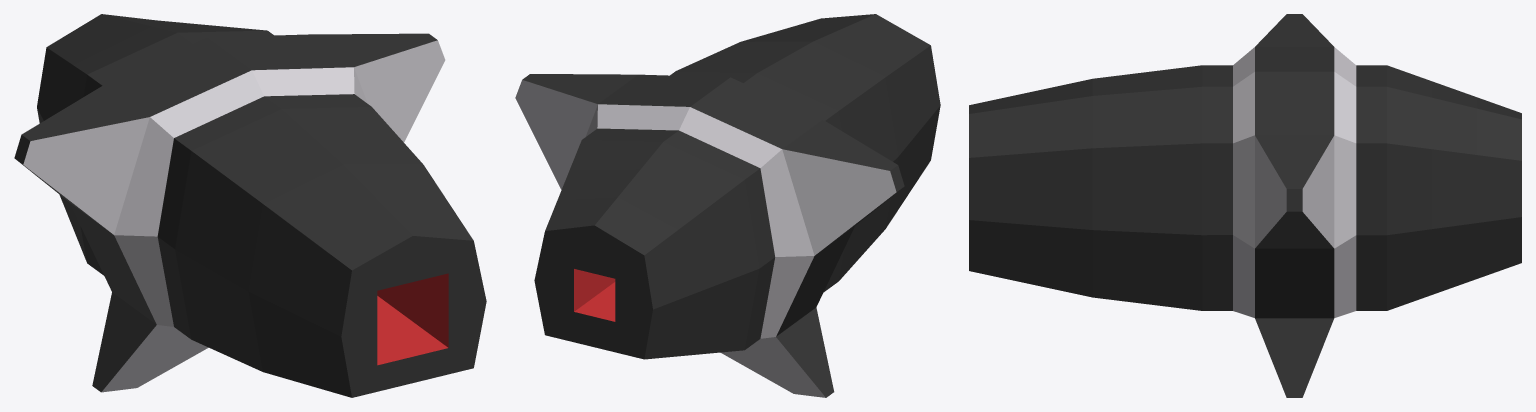
The model's file is playerGun.fbx.
The picture shows the model from 3 angles, left to right: view 1: azimuth 30°, elevation 25°; view 2: azimuth 150°, elevation 25°; view 3: azimuth 270°, elevation 25°; orthographic projection. The views are drawn at different scales.
Visible parts, largest first — view 1: Cube; view 2: Cube; view 3: Cube.
Part boxes in pixels (left/top/right/bottom): Cube: left=14, top=14, right=486, bottom=397; Cube: left=515, top=14, right=940, bottom=397; Cube: left=969, top=14, right=1521, bottom=397.
Size of the model in its own units: 0.6867 by 0.4776 by 0.8775.
